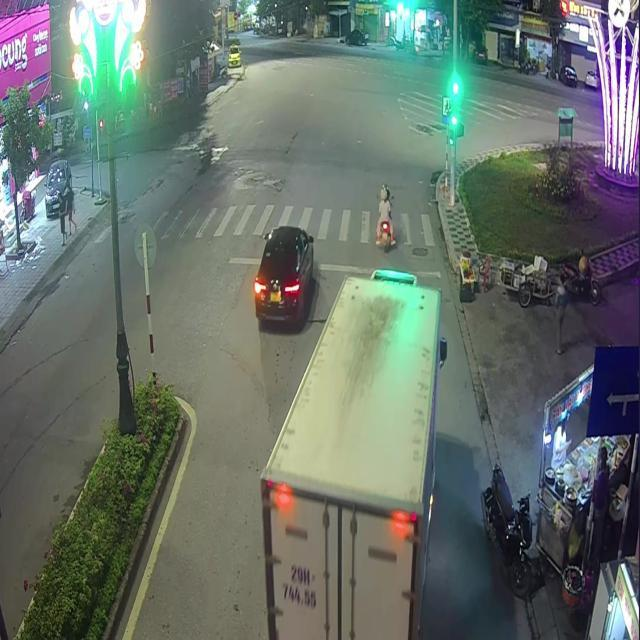car: (260, 267, 440, 638), (252, 225, 312, 327)
green_light: (450, 92, 457, 125)
motobike: (379, 221, 391, 251)
stop_line: (226, 256, 440, 277)
